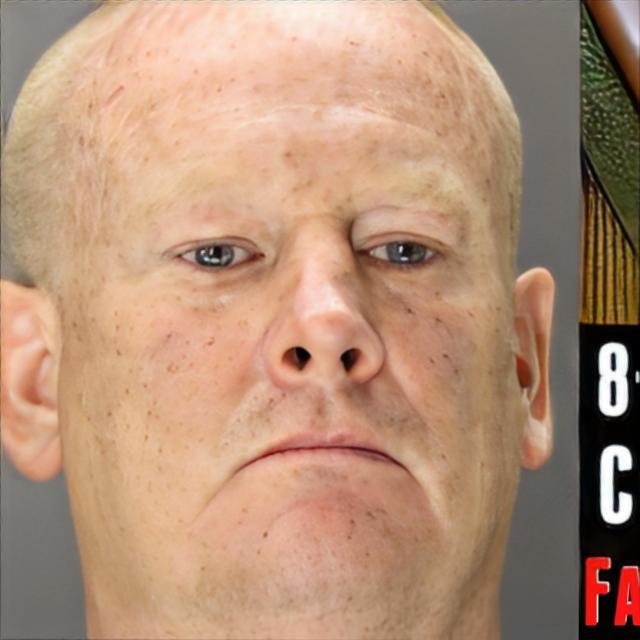sad: (57, 27, 516, 628)
